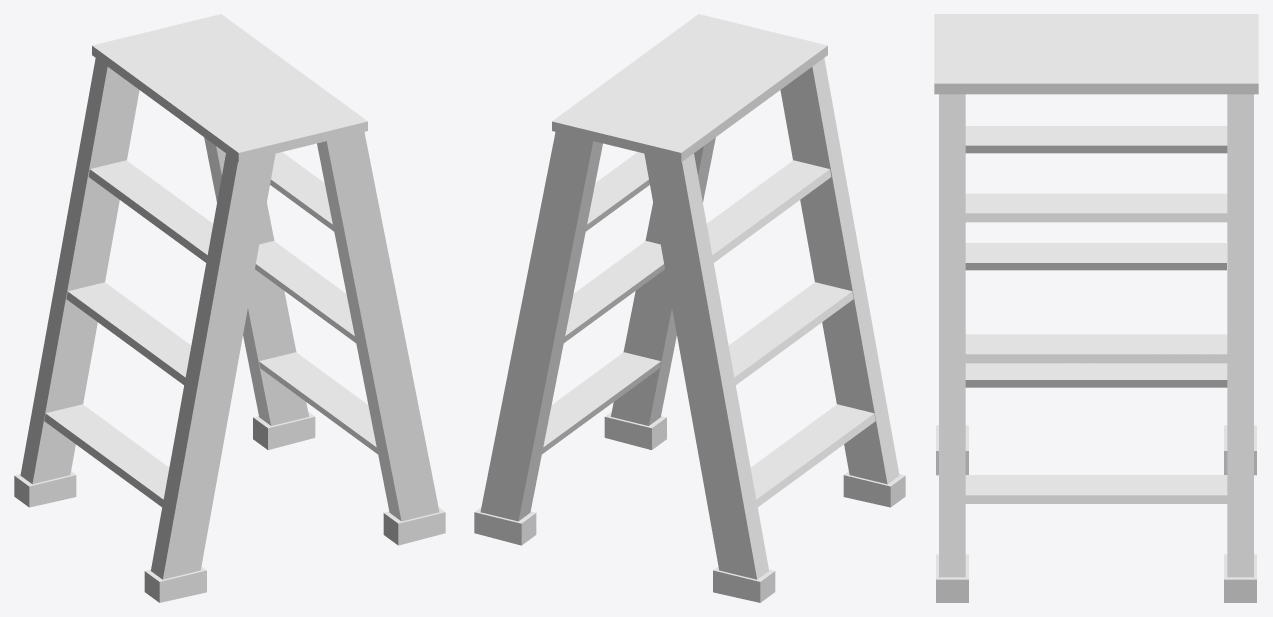
Rendered from Prop_Ladder_02.glb.
The picture shows the model from 3 angles, left to right: view 1: azimuth 30°, elevation 25°; view 2: azimuth 150°, elevation 25°; view 3: azimuth 270°, elevation 25°; orthographic projection. The views are drawn at different scales.
Parts seen in each view (by area): view 1: Prop_Ladder_02; view 2: Prop_Ladder_02; view 3: Prop_Ladder_02.
Boxes of the visible parts, x1=… form: Prop_Ladder_02: x1=14, y1=14, x2=445, y2=602; Prop_Ladder_02: x1=474, y1=14, x2=905, y2=602; Prop_Ladder_02: x1=934, y1=14, x2=1258, y2=602.
Bounding box in the file's own units: 0.9 × 1.3 × 0.8.
Materials: 1 (1 with a texture image).
